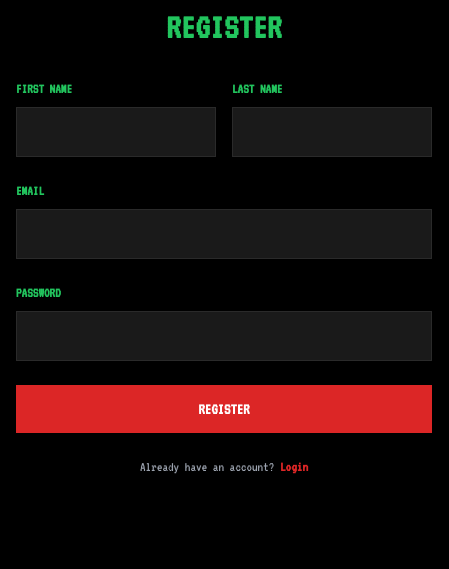
Test: RegisterPage › shows error for short password
The image size is (449, 569).
Type "John" into the field labelled "FIRST NAME" at [116, 132], box [16,107,216,157]
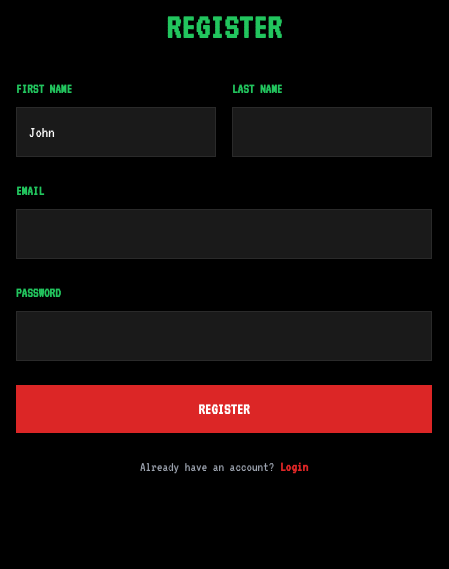
Type "Doe" into the field labelled "LAST NAME" at [332, 132], box [232,107,432,157]
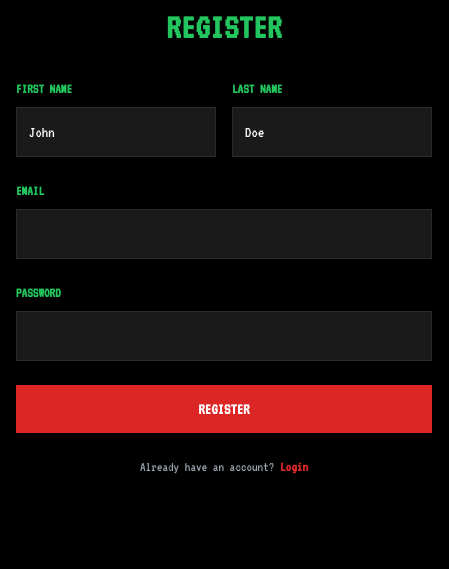
Type "john@example.com" into the field labelled "EMAIL" at [224, 234], box [16,209,432,259]
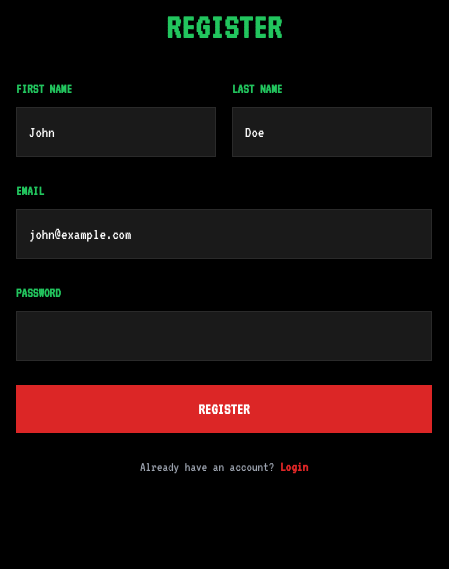
Type "short" into the password field labelled "PASSWORD" at [224, 336], box [16,311,432,361]
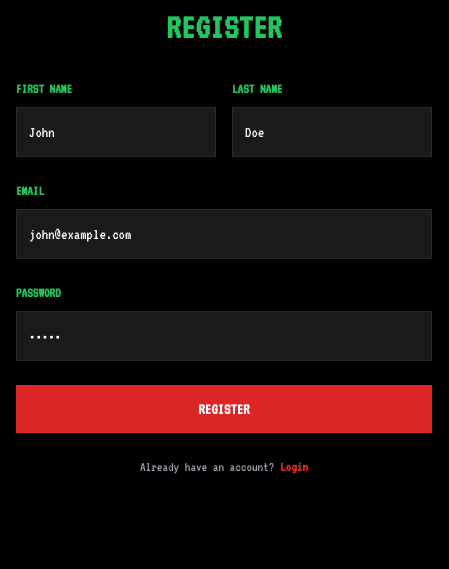
Click the button "REGISTER" at [224, 409], box [16,385,432,433]
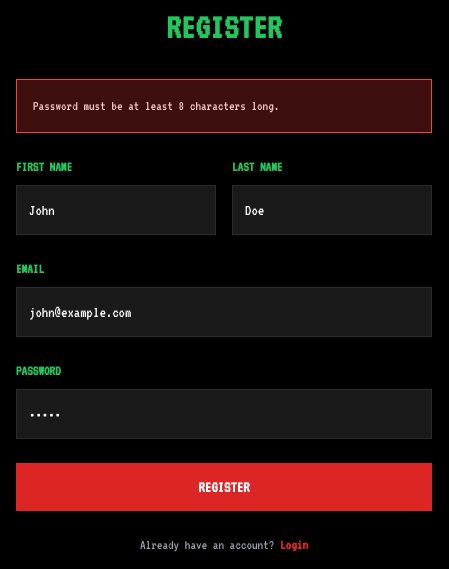
Expected: the text "Password must be at least 8 characters long." is shown, [16,79,432,133]
